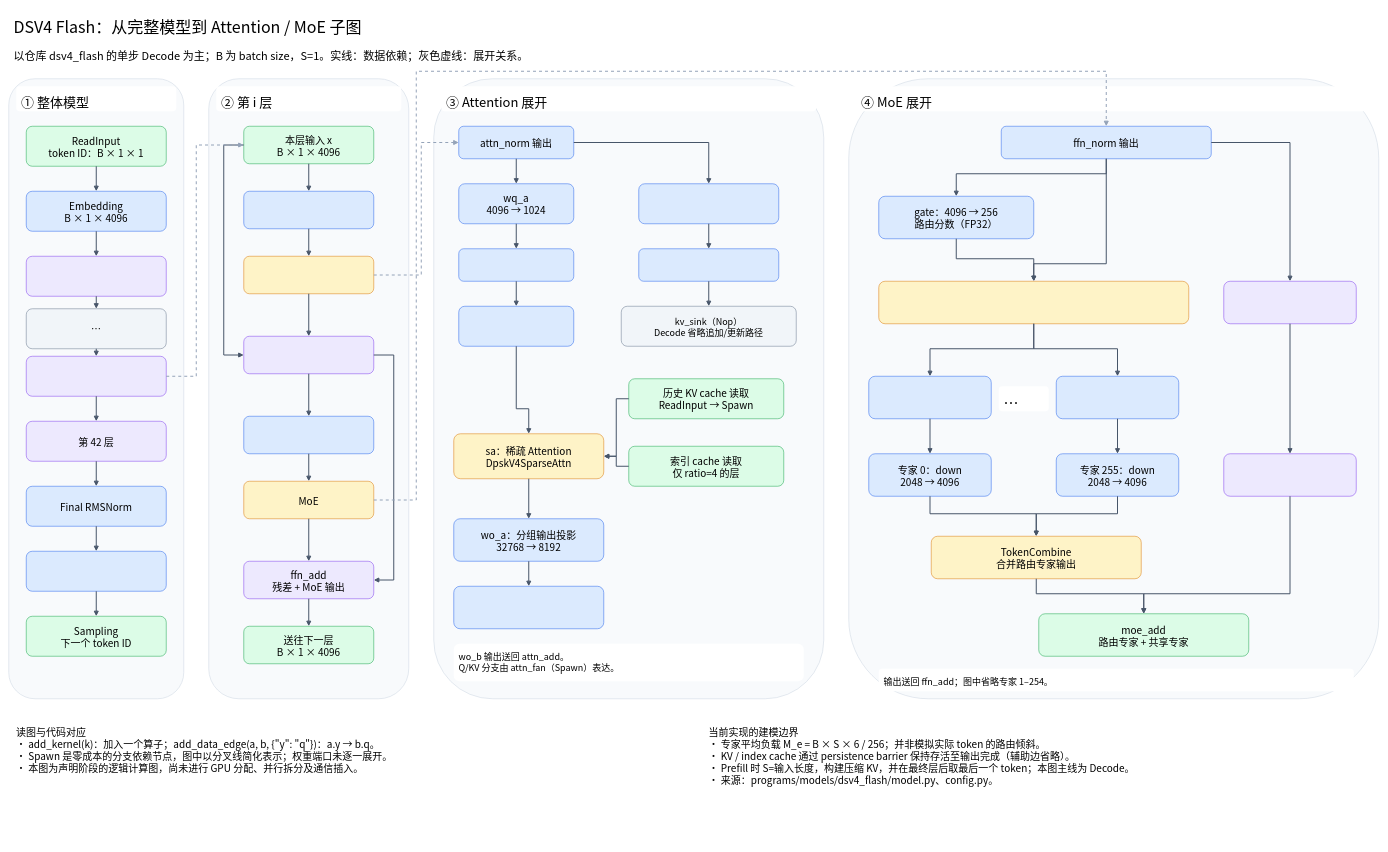
This 1388x852 diagram has some shape labels left out. Each missing label, with the centre of its shape:
"Attention" belongs at point 308,275.
"attn_add x + Attention 输出" belongs at point 308,355.
"attn_norm" belongs at point 308,210.
"ffn_norm" belongs at point 308,435.
"kv_norm" belongs at point 708,264.
"Logits 投影 4096 → 129280" belongs at point 96,571.
"q_norm" belongs at point 516,264.
"TokenDispatch 每个 token 选 6 个专家" belongs at point 1033,302.
"wkv 4096 → 512" belongs at point 708,203.
"wo_b 8192 → 4096" belongs at point 528,607.
"wq_b 1024 → 32768" belongs at point 516,326.
"专家 0：up 4096 → 2048" belongs at point 929,397.
"专家 255：up 4096 → 2048" belongs at point 1117,397.
"中间层 i（其余省略）" belongs at point 96,376.
"共享专家 sw_down 2048 → 4096" belongs at point 1289,474.
"共享专家 sw_up 4096 → 2048" belongs at point 1289,302.
"第 0 层" belongs at point 96,276.
